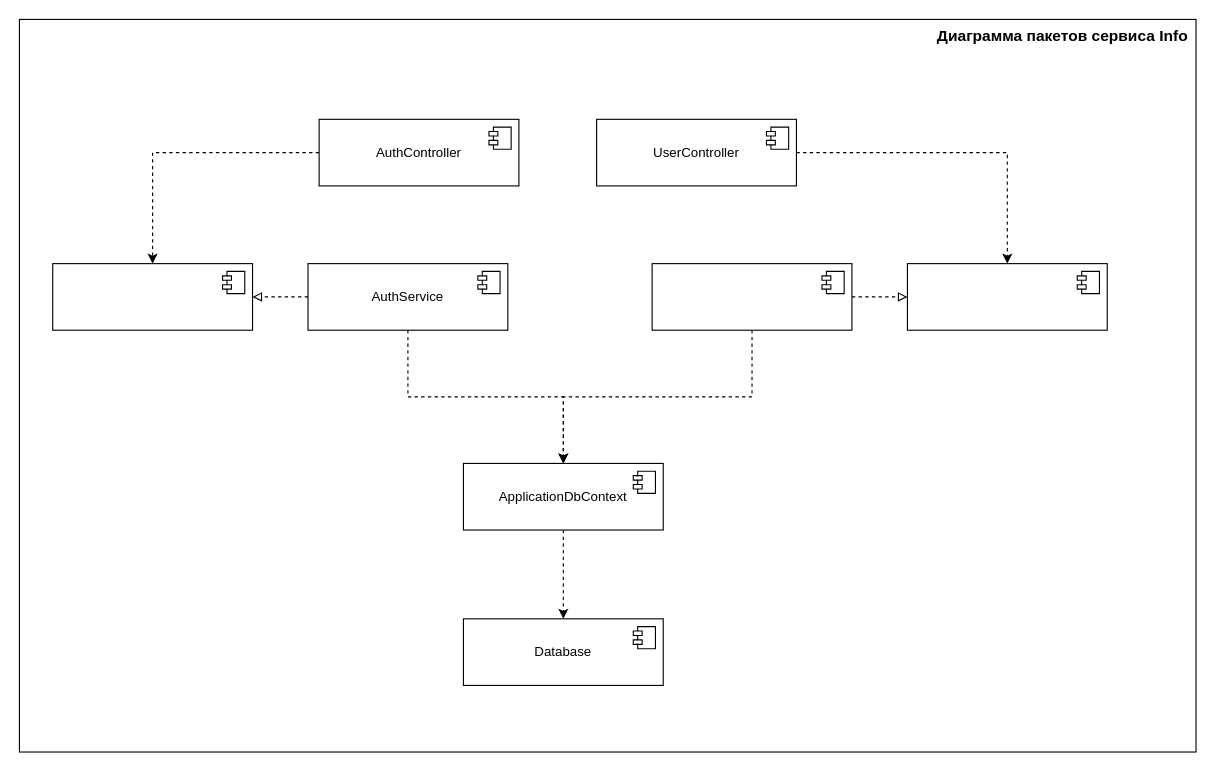
The diagram is 1215 pixels wide and 771 high, and some of its shapes have lost their labels. Each missing label, with the centre of its shape:
IAuthService: pixel 152 296
IUserService: pixel 1006 296
UserService: pixel 751 296
